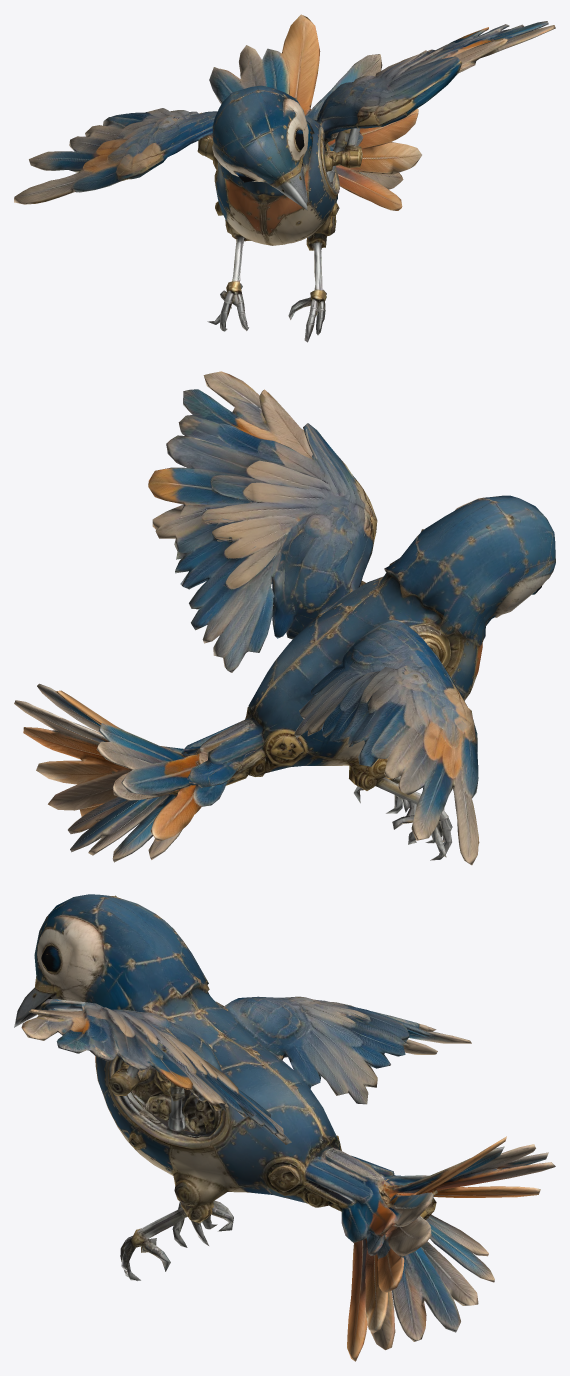
Rendered from bird.glb.
3 views of the same model, one above another, from view 1: azimuth 30°, elevation 25°; view 2: azimuth 150°, elevation 25°; view 3: azimuth 270°, elevation 25° (orthographic). The views are drawn at different scales.
Visible parts, largest first — view 1: Mesh1.0; view 2: Mesh1.0; view 3: Mesh1.0.
Part boxes in pixels (<box>): Mesh1.0: <box>14,14,555,342</box>; Mesh1.0: <box>14,371,555,865</box>; Mesh1.0: <box>14,894,555,1361</box>.
Bounding box in the file's own units: 1.91 × 1.39 × 1.83.
Materials: 1 (1 with a texture image).
